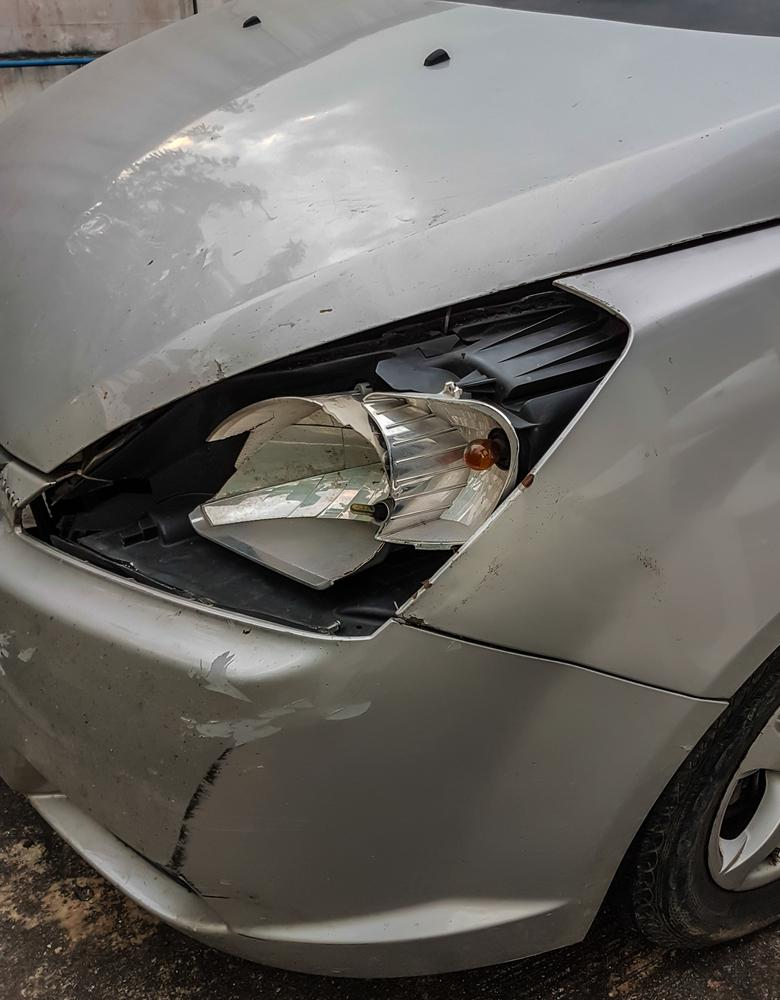lamp broken: (47, 284, 627, 635)
scratch: (107, 651, 382, 909)
